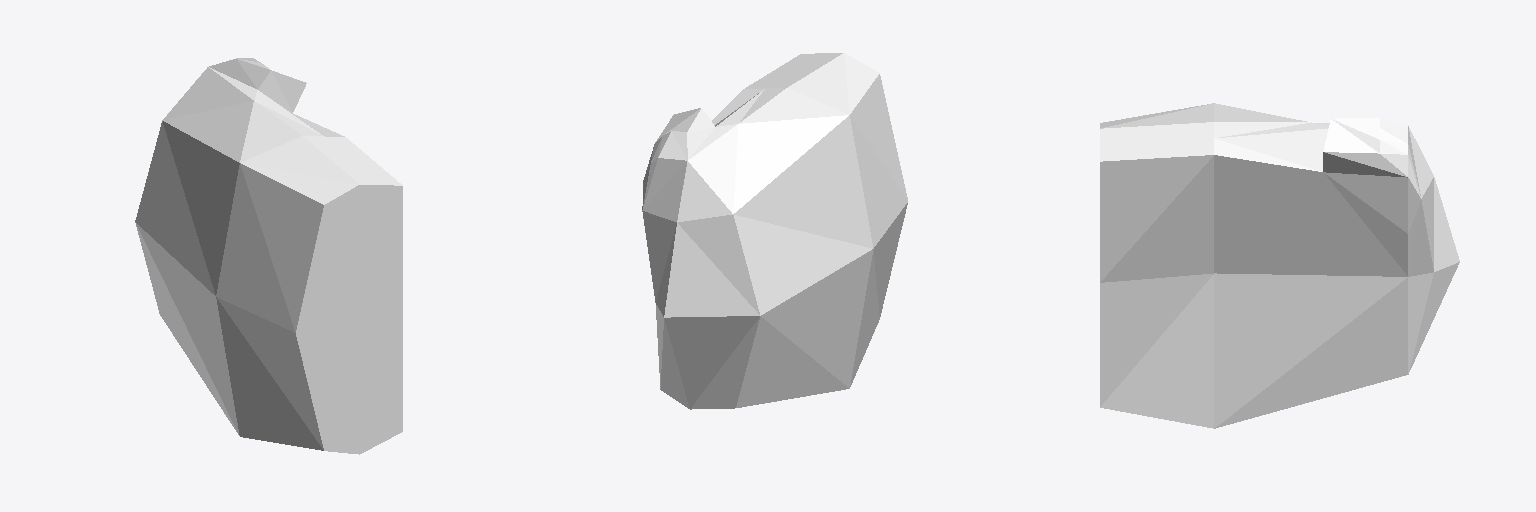
The model's file is Palm.obj.
3 renders of one model, left to right at view 1: azimuth 30°, elevation 25°; view 2: azimuth 150°, elevation 25°; view 3: azimuth 270°, elevation 25°, orthographic.
Visible parts, largest first — view 1: Palm; view 2: Palm; view 3: Palm.
Boxes of the visible parts, x1=… form: Palm: x1=135, y1=58, x2=402, y2=454; Palm: x1=642, y1=53, x2=907, y2=409; Palm: x1=1100, y1=103, x2=1459, y2=428.
Size of the model in its own units: 0.0433 by 0.0894 by 0.0929.